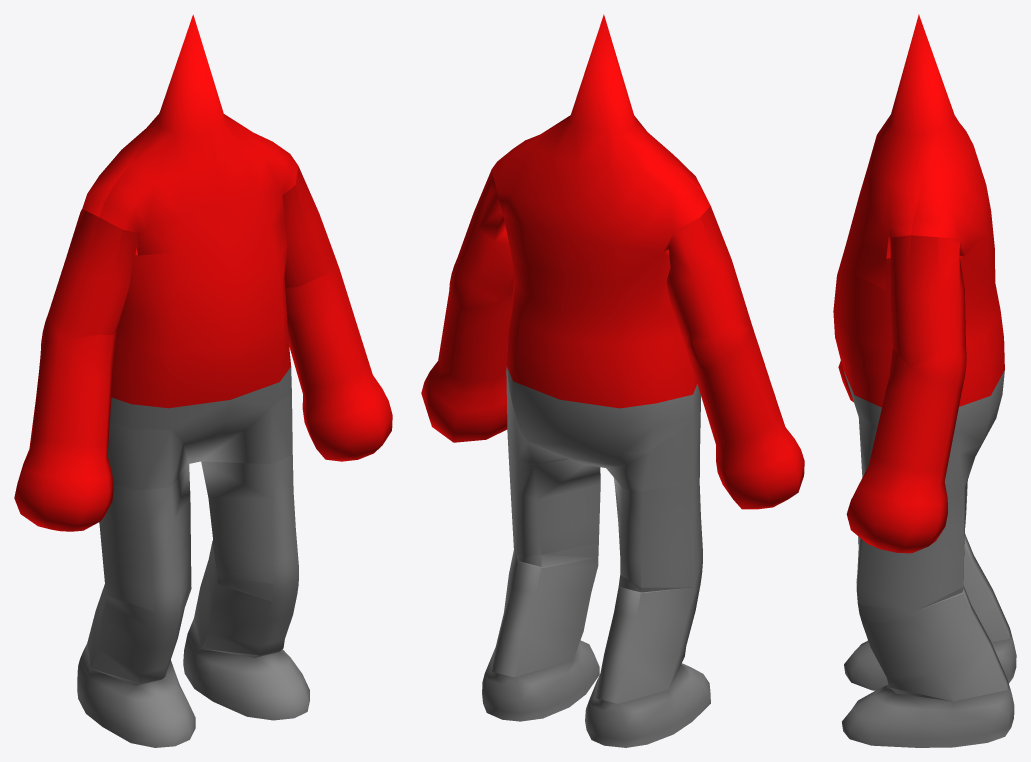
Rendered from MaleBody.glb.
The picture shows the model from 3 angles, left to right: view 1: azimuth 30°, elevation 25°; view 2: azimuth 150°, elevation 25°; view 3: azimuth 270°, elevation 25°; orthographic projection.
Parts seen in each view (by area): view 1: BodyModel__MannequinMat00, FootModel__MannequinMat00; view 2: BodyModel__MannequinMat00, FootModel__MannequinMat00; view 3: BodyModel__MannequinMat00, FootModel__MannequinMat00.
Part boxes in pixels (left/top/right/bottom): BodyModel__MannequinMat00: left=14, top=14, right=392, bottom=531; FootModel__MannequinMat00: left=77, top=367, right=309, bottom=747; BodyModel__MannequinMat00: left=421, top=14, right=804, bottom=509; FootModel__MannequinMat00: left=482, top=366, right=710, bottom=747; BodyModel__MannequinMat00: left=833, top=14, right=1004, bottom=553; FootModel__MannequinMat00: left=842, top=370, right=1016, bottom=747.
Bounding box in the file's own units: 52.49 × 92.2 × 22.29.
